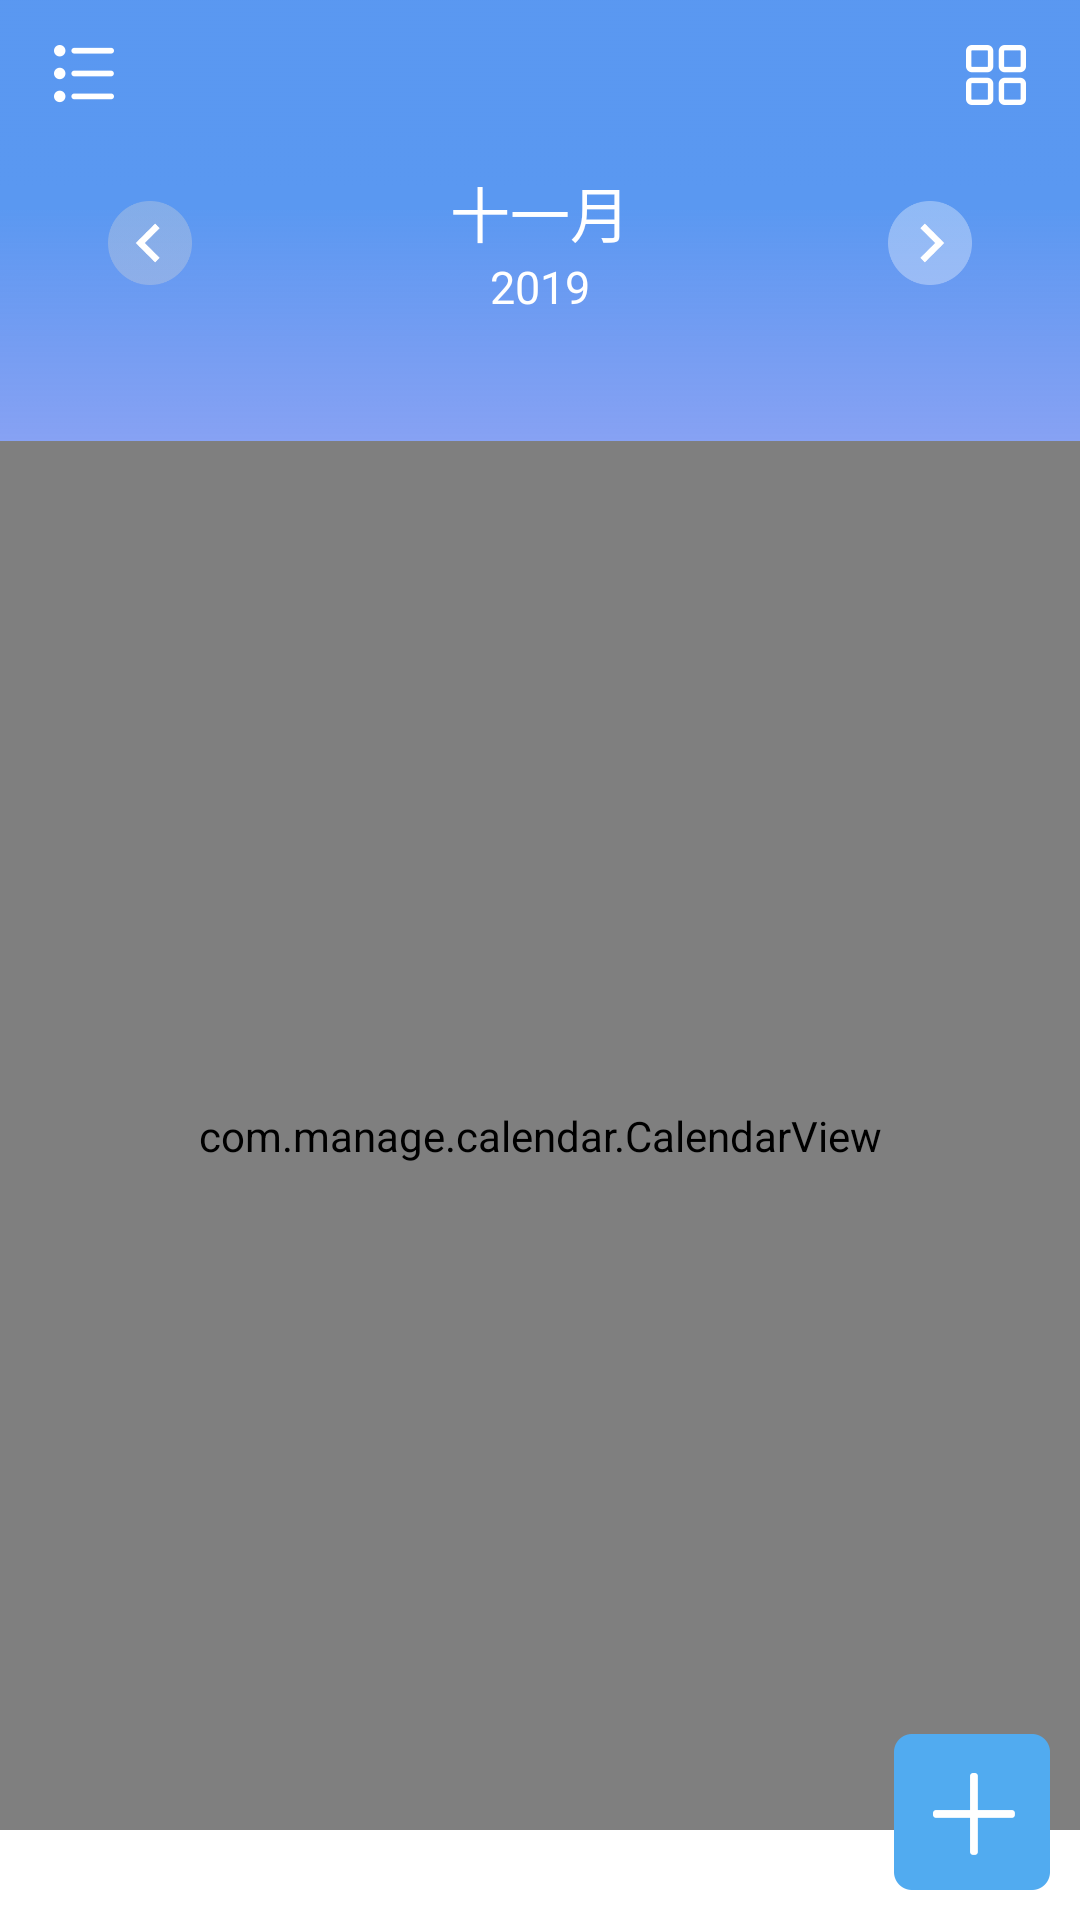

Screen size 1080px x 1920px. Icon name, then its center in pixels as (x,y):
home add schedule: (972,1812)
next month: (930,243)
pre month: (150,243)
